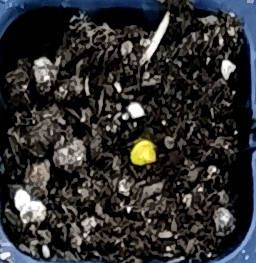pepper seed: (49, 54, 208, 222)
